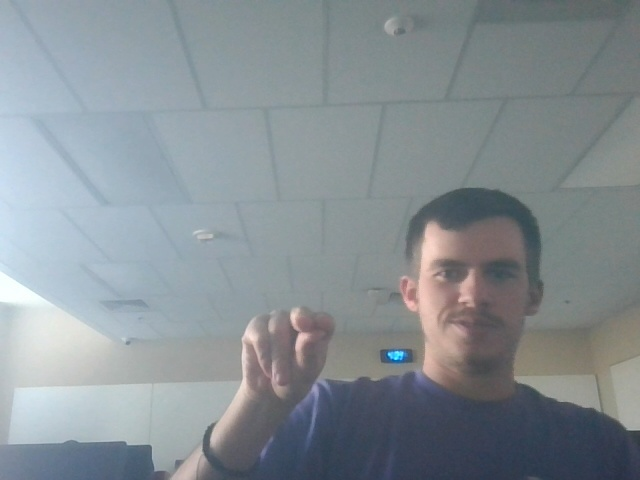no: (226, 301, 344, 410)
